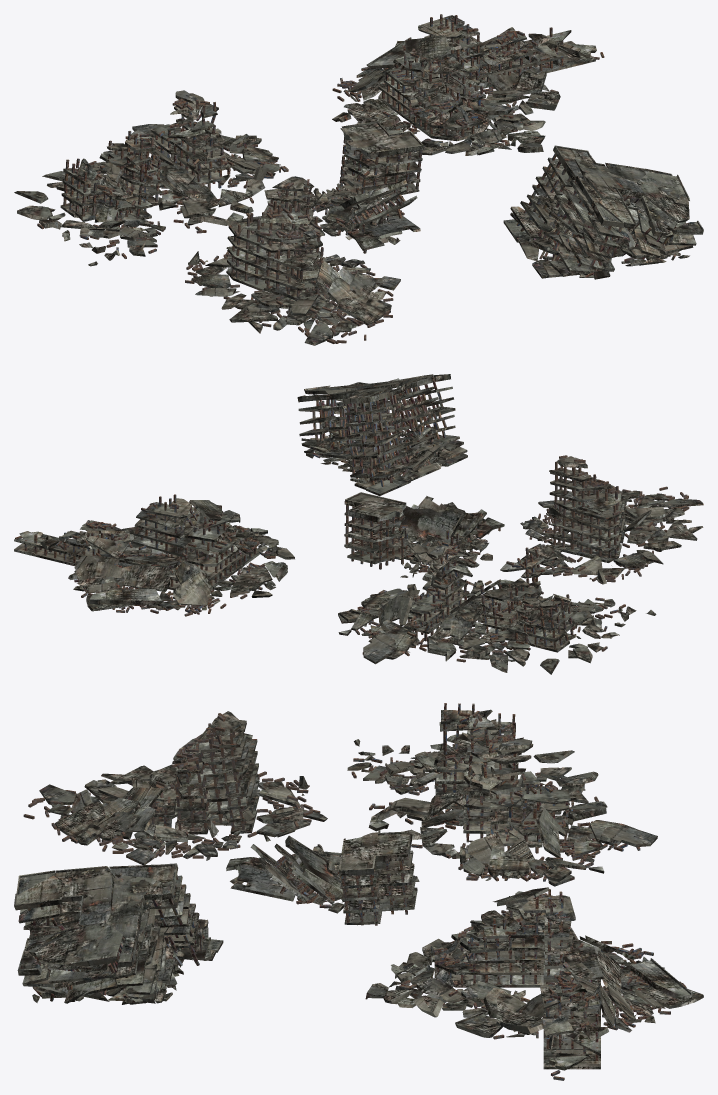
File: sut.glb
3 renders of one model, top to bottom at view 1: azimuth 30°, elevation 25°; view 2: azimuth 150°, elevation 25°; view 3: azimuth 270°, elevation 25°, orthographic. The views are drawn at different scales.
Parts seen in each view (by area): view 1: ruim.005, ruim.007, ruim.006, ruim.009, ruim.008; view 2: ruim.005, ruim.007, ruim.009, ruim.006, ruim.008; view 3: ruim.005, ruim.007, ruim.009, ruim.006, ruim.008.
Boxes of the visible parts, x1,y1,x2,y2 form: ruim.005: [332, 14, 604, 155]; ruim.007: [14, 90, 288, 266]; ruim.006: [185, 176, 400, 345]; ruim.009: [503, 145, 703, 279]; ruim.008: [305, 121, 423, 253]; ruim.005: [14, 494, 294, 616]; ruim.007: [338, 530, 656, 674]; ruim.009: [297, 374, 467, 495]; ruim.006: [520, 455, 703, 584]; ruim.008: [344, 492, 504, 581]; ruim.005: [365, 887, 703, 1080]; ruim.007: [347, 703, 657, 886]; ruim.009: [14, 863, 223, 1004]; ruim.006: [23, 711, 327, 864]; ruim.008: [226, 829, 419, 925].
Bounding box in the file's own units: 34 × 5.18 × 29.14.
2 materials, 2 textured.
